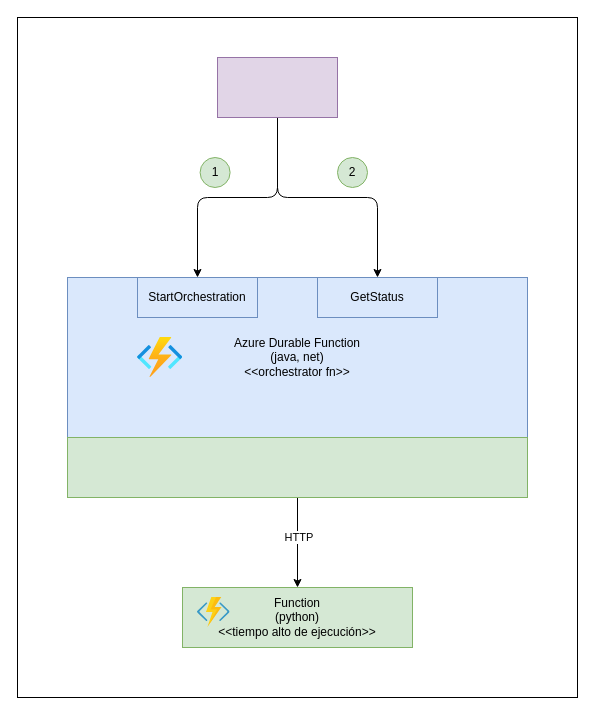
The diagram is 595 pixels wide and 715 high, and some of its shapes have lost their labels. The shapes that lost their labels are listed below. From the top down, each one's centre as x and y in pixels, then its label:
At [277,87]: "Client".
At [297,467]: "<<activity>>".
